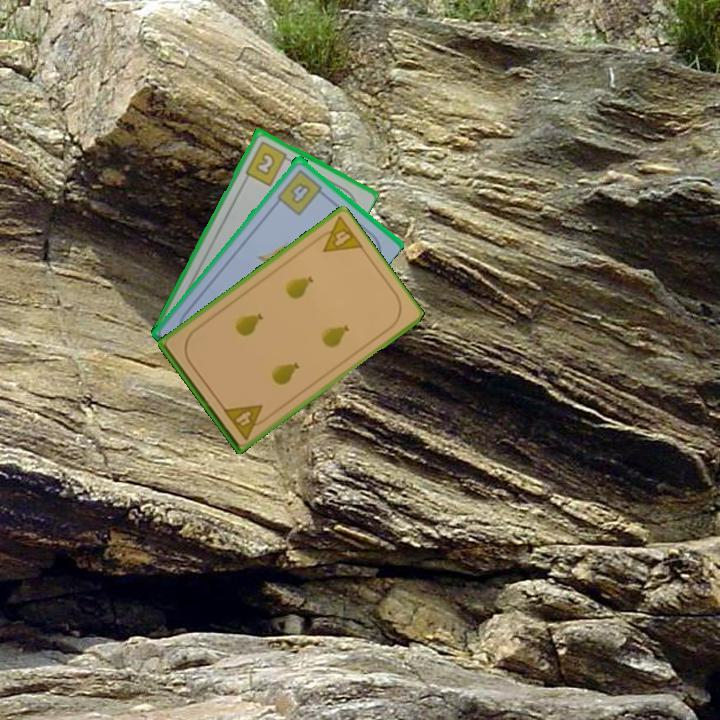2b: (242, 137, 294, 188)
4b: (274, 166, 328, 218)
4p: (310, 213, 366, 255), (220, 400, 272, 442)
